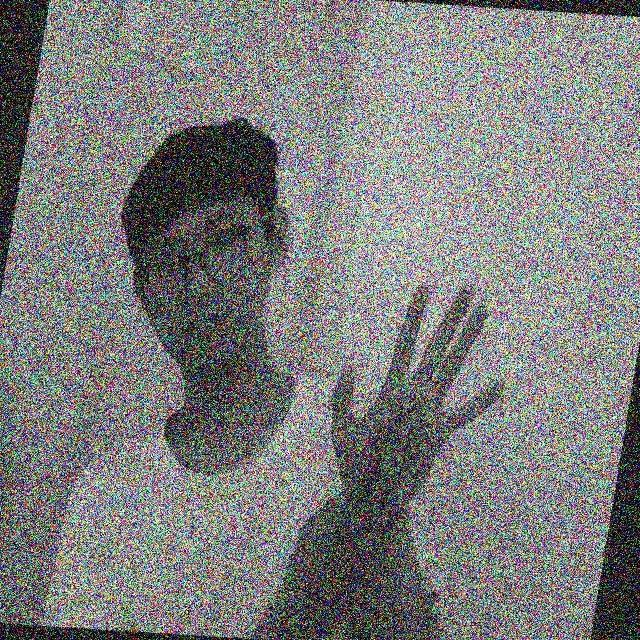M: (331, 276, 510, 498)
